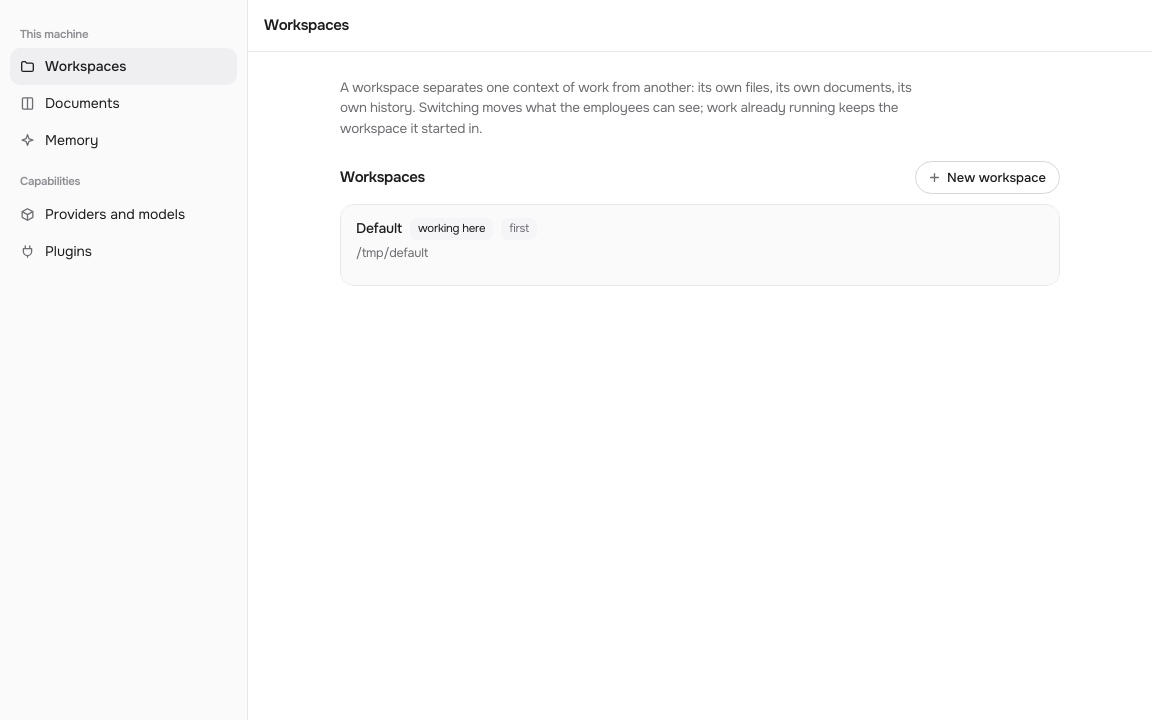
Test case: Settings → Plugins → MCP servers › says when nothing is connected
Click the button "Plugins" at (124, 251), box [10,232,237,270]
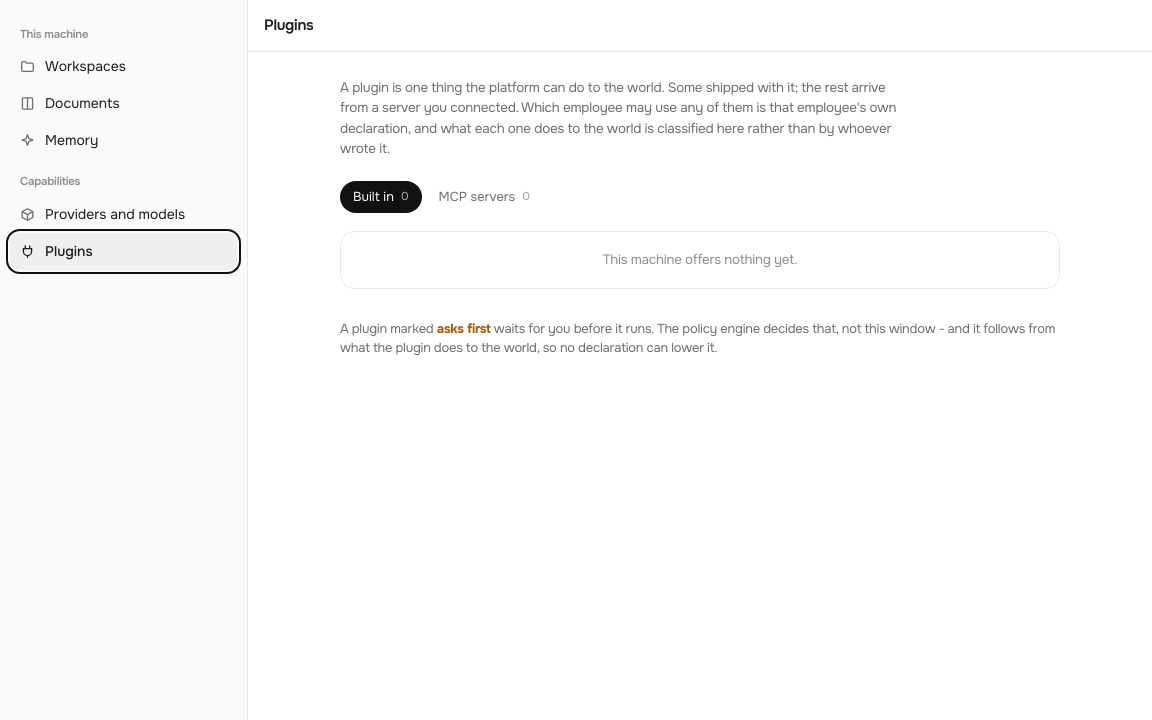
Click the tab "MCP servers 0" at (484, 197), box [426,181,543,212]
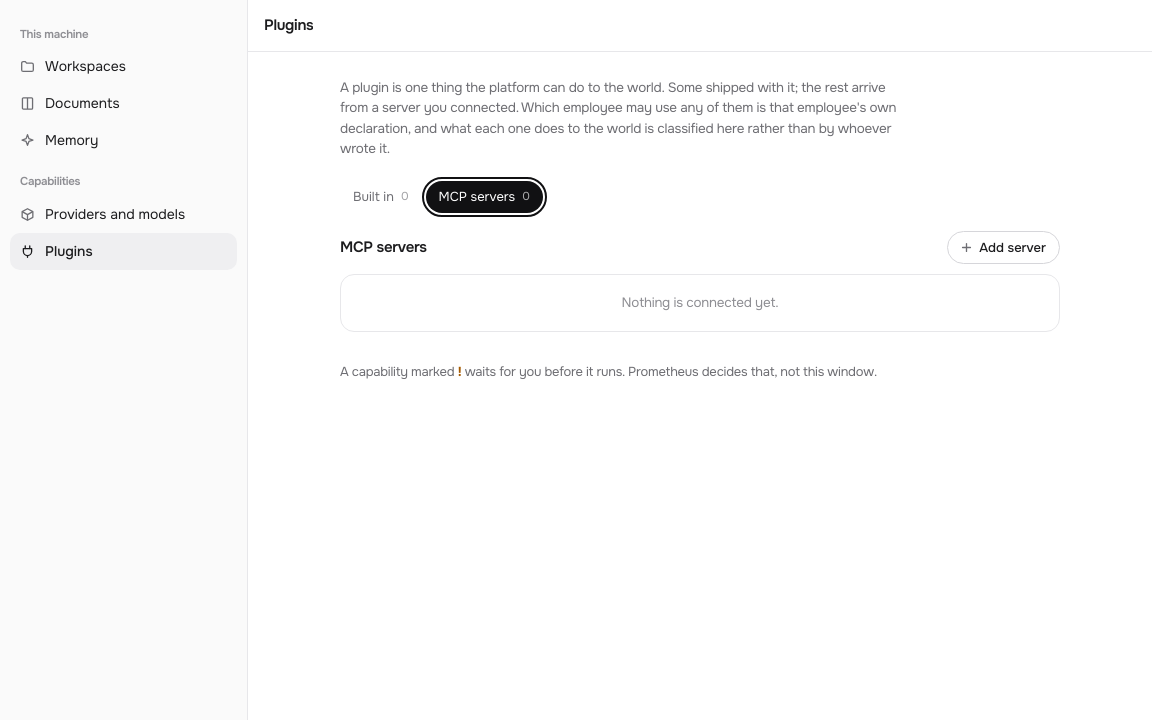
Expected: the text "Nothing is connected yet." is shown, [622,294,778,311]
